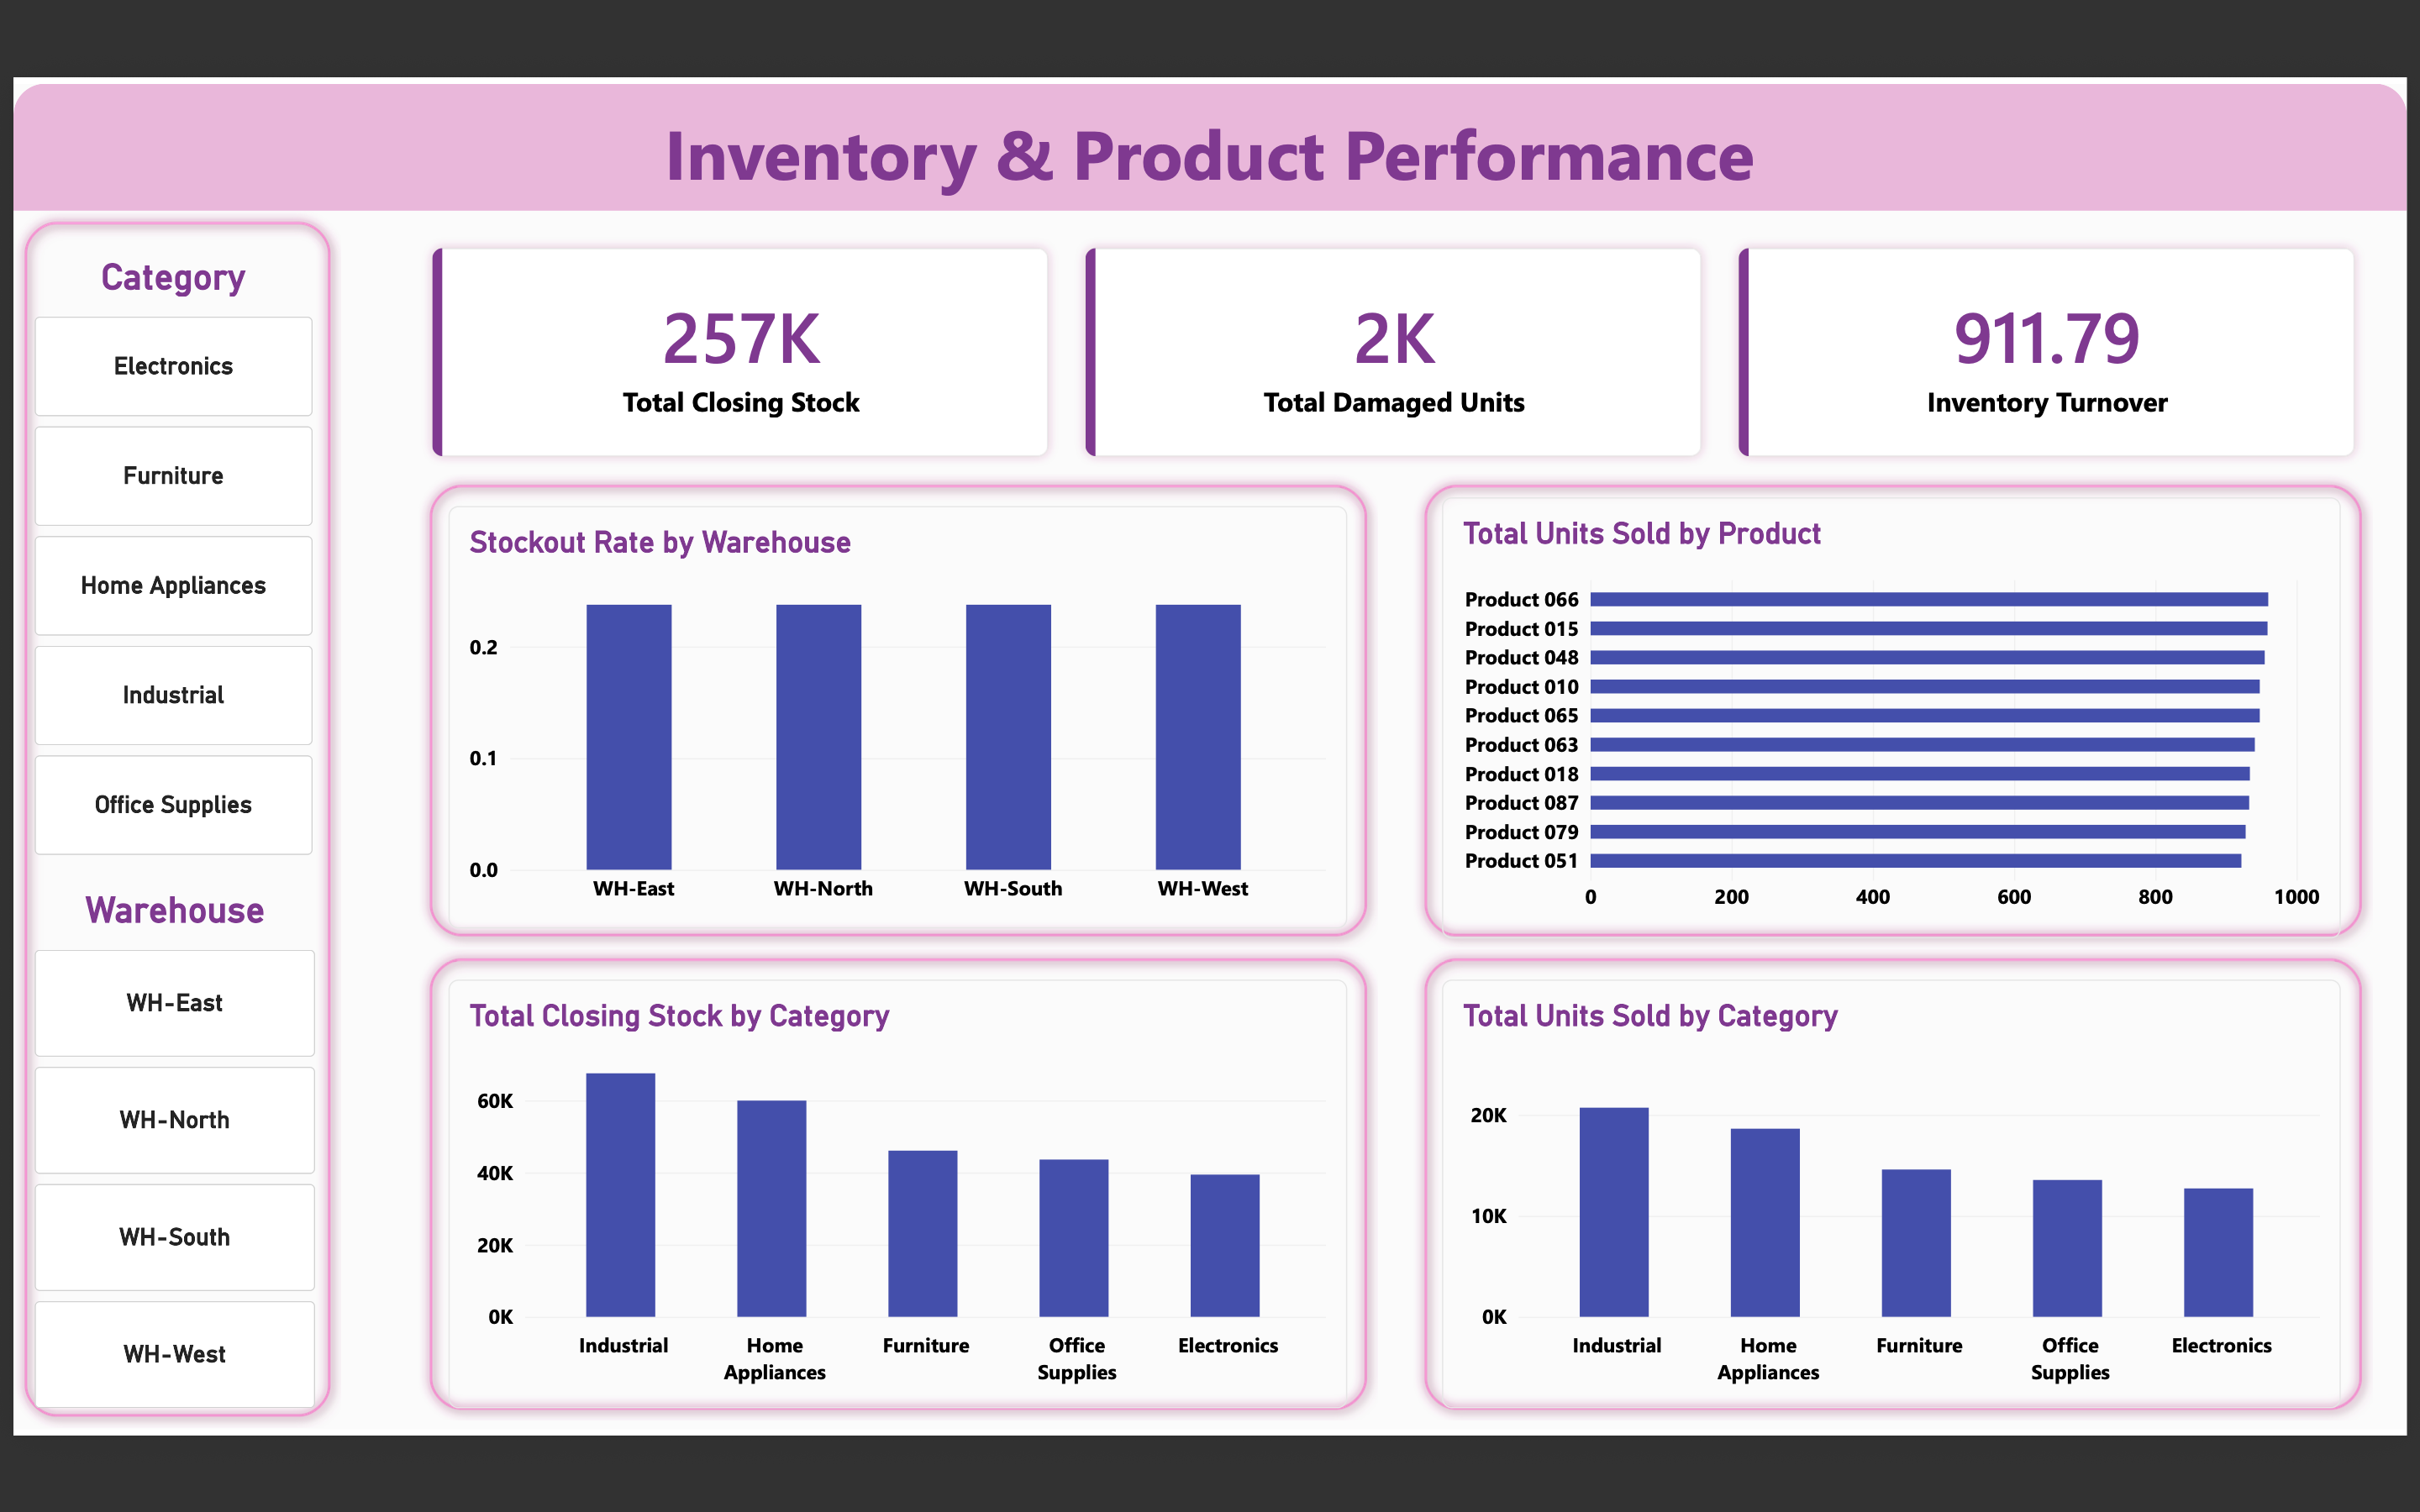

The dashboard page shown, as its layout file describes it:
{"tool":"powerbi","page":{"name":"Inventory & Product Performance","canvas":[1920,1080],"ordinal":1},"visuals":[{"type":"shape","box":[0,0,1920,102.1],"z":0},{"type":"shape","box":[0,102.2,263.3,976.7],"z":1},{"type":"shape","box":[1122.6,693,769.9,380.2],"z":2},{"type":"shape","box":[1122.6,313.3,769.9,380.2],"z":3},{"type":"shape","box":[325.1,313.3,769.9,380.2],"z":4},{"type":"shape","box":[325.1,693,769.9,380.2],"z":5},{"type":"cardVisual","fields":{"Data":["Inventory.Total Closing Stock","Inventory.Total Damaged Units","Inventory.Inventory Turnover"]},"box":[325.1,121,1566.4,189.9],"z":6},{"type":"clusteredColumnChart","title":"Total Closing Stock by Category","fields":{"Category":["Products.category"],"Y":["Inventory.Total Closing Stock"]},"box":[348.9,719.1,721.5,344.1],"z":7},{"type":"clusteredBarChart","title":"Total Units Sold by Product","fields":{"Category":["Products.product_name"],"Y":["Orders.Total Units Sold"]},"box":[1146.3,332.3,721.5,353.6],"z":8},{"type":"clusteredColumnChart","title":"Stockout Rate by Warehouse","fields":{"Category":["Orders.warehouse"],"Y":["Inventory.Stockout Rate"]},"box":[348.9,339.4,721.5,339.4],"z":9},{"type":"clusteredColumnChart","title":"Total Units Sold by Category","fields":{"Category":["Products.category"],"Y":["Orders.Total Units Sold"]},"box":[1146.3,719.1,721.5,344.1],"z":10},{"type":"advancedSlicerVisual","title":"Category","fields":{"Values":["Products.category"]},"box":[16.6,137.7,223.1,484.2],"z":11},{"type":"advancedSlicerVisual","title":"Warehouse","fields":{"Values":["Inventory.warehouse"]},"box":[16.6,645.5,225.5,420.1],"z":12}]}

Visuals, with their boxes on the page's 1920x1080 design canvas (x1, y1, x2, y2). These are canvas units, not pixel positions in the 2420x1512 screenshot, which may show the page scaled, cropped or inside an application window:
shape: l=0, t=0, r=1920, b=102
shape: l=0, t=102, r=263, b=1079
shape: l=1123, t=693, r=1892, b=1073
shape: l=1123, t=313, r=1892, b=694
shape: l=325, t=313, r=1095, b=694
shape: l=325, t=693, r=1095, b=1073
cardVisual - Inventory.Total Closing Stock x Inventory.Total Damaged Units: l=325, t=121, r=1892, b=311
"Total Closing Stock by Category" clusteredColumnChart: l=349, t=719, r=1070, b=1063
"Total Units Sold by Product" clusteredBarChart: l=1146, t=332, r=1868, b=686
"Stockout Rate by Warehouse" clusteredColumnChart: l=349, t=339, r=1070, b=679
"Total Units Sold by Category" clusteredColumnChart: l=1146, t=719, r=1868, b=1063
"Category" advancedSlicerVisual: l=17, t=138, r=240, b=622
"Warehouse" advancedSlicerVisual: l=17, t=646, r=242, b=1066
